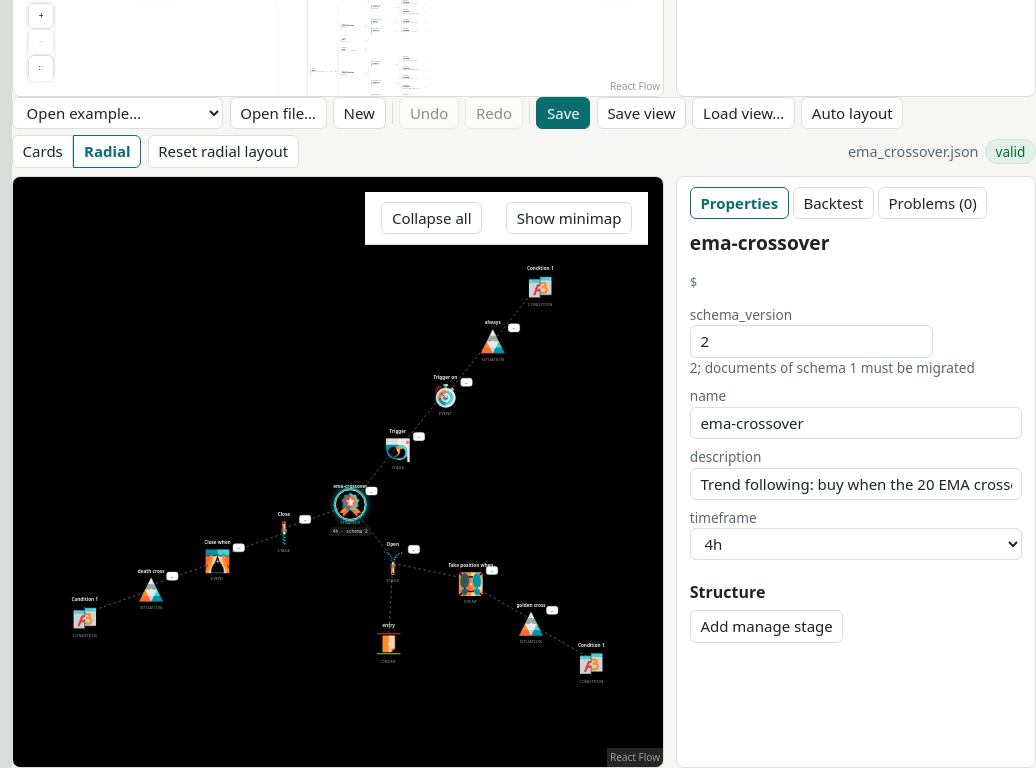
Test case: designer layouts › Radial is the default; Cards is the other choice; icons, collapse and expand work
(page scrolled)
Check: the element showing "ema-crossover Strategy 4h · schema 2 −" is shown, box [330, 482, 377, 535]
Click the 7th button "−" at {"x": 414, "y": 549}, box [408, 545, 420, 554]
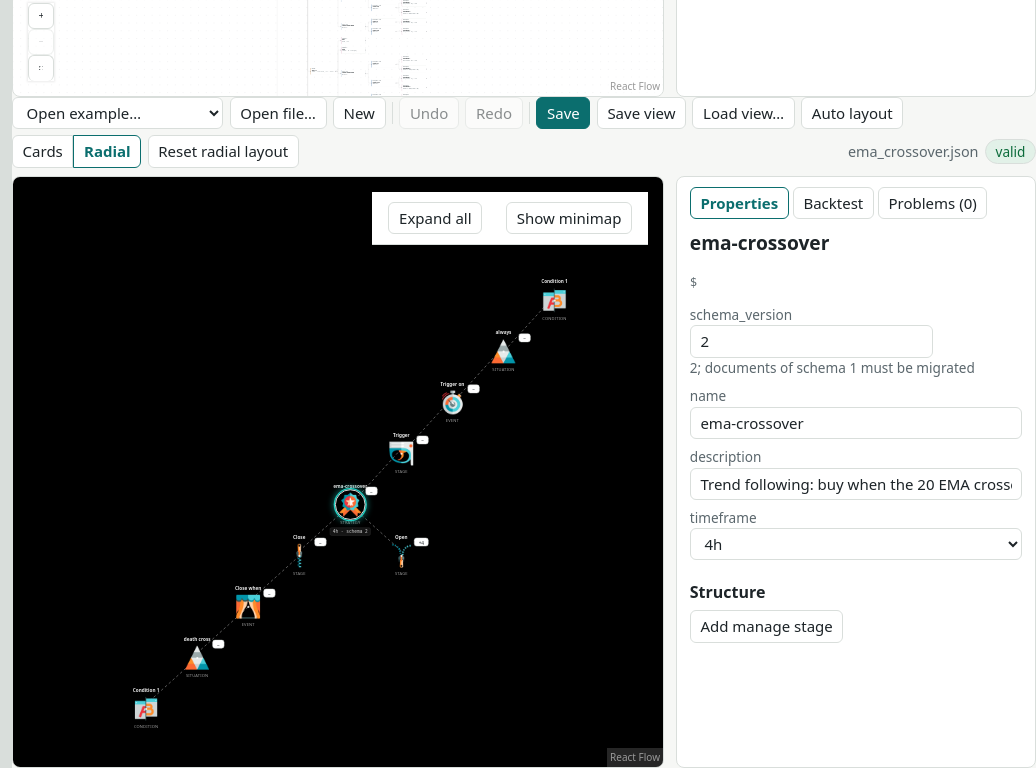
Check: the button "+4" is shown
Click the button "+4" at {"x": 421, "y": 542}, box [414, 538, 428, 546]
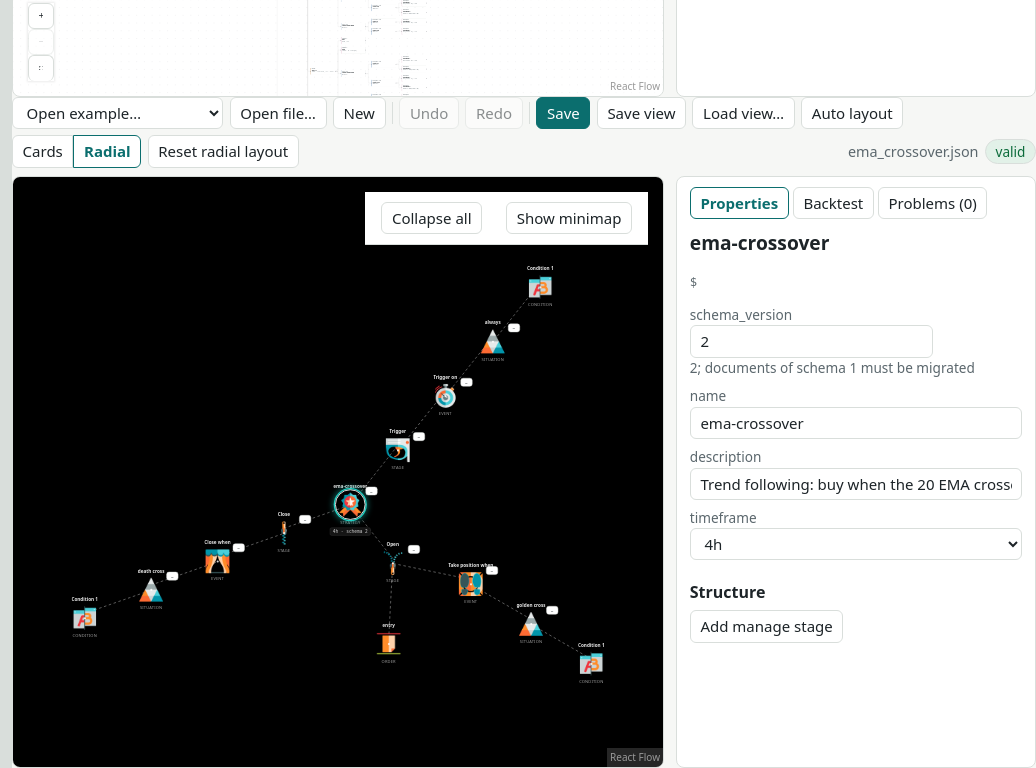
Click the button "Cards" at {"x": 43, "y": 152}, box [12, 136, 73, 168]
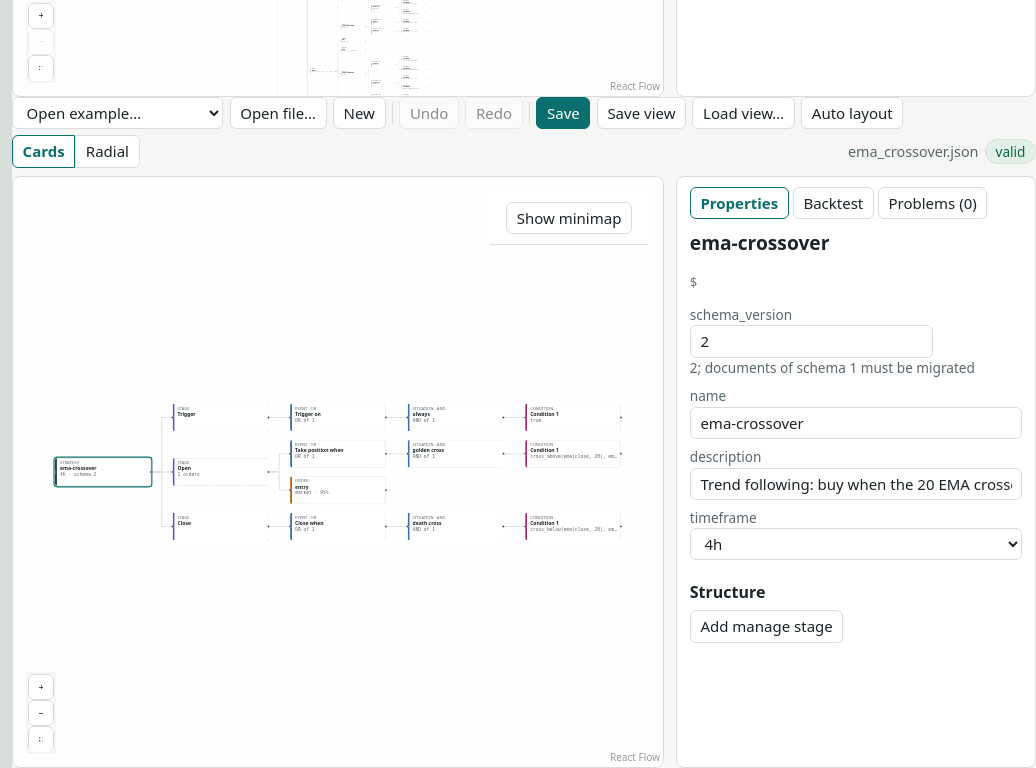
Check: the element showing "order entry market · 95%" is shown, box [290, 476, 386, 504]
Click the button "Radial" at {"x": 107, "y": 152}, box [75, 136, 140, 168]
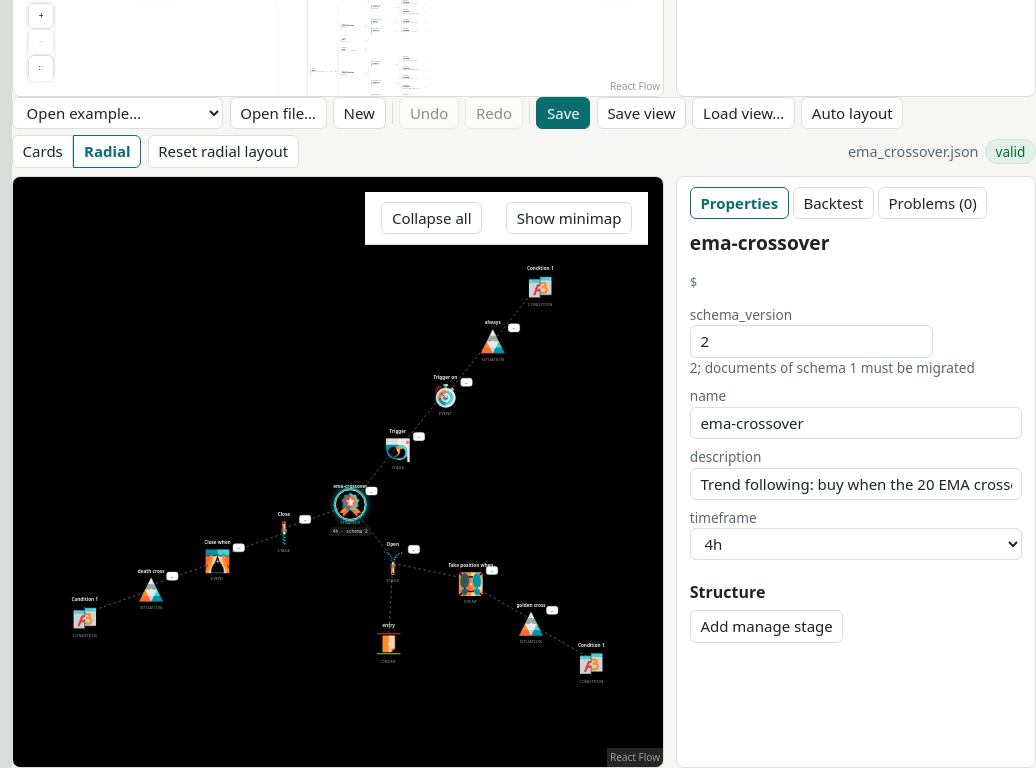
Check: the element showing "ema-crossover Strategy 4h · schema 2 −" is shown, box [330, 482, 377, 535]
